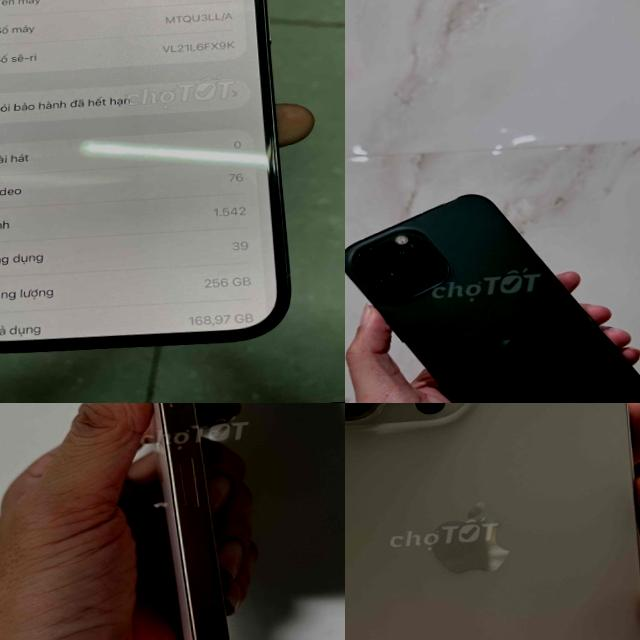gen_12_13: (345, 179, 640, 403)
gen_15: (0, 0, 315, 386), (345, 403, 640, 640)
gen_16: (152, 403, 229, 640)
